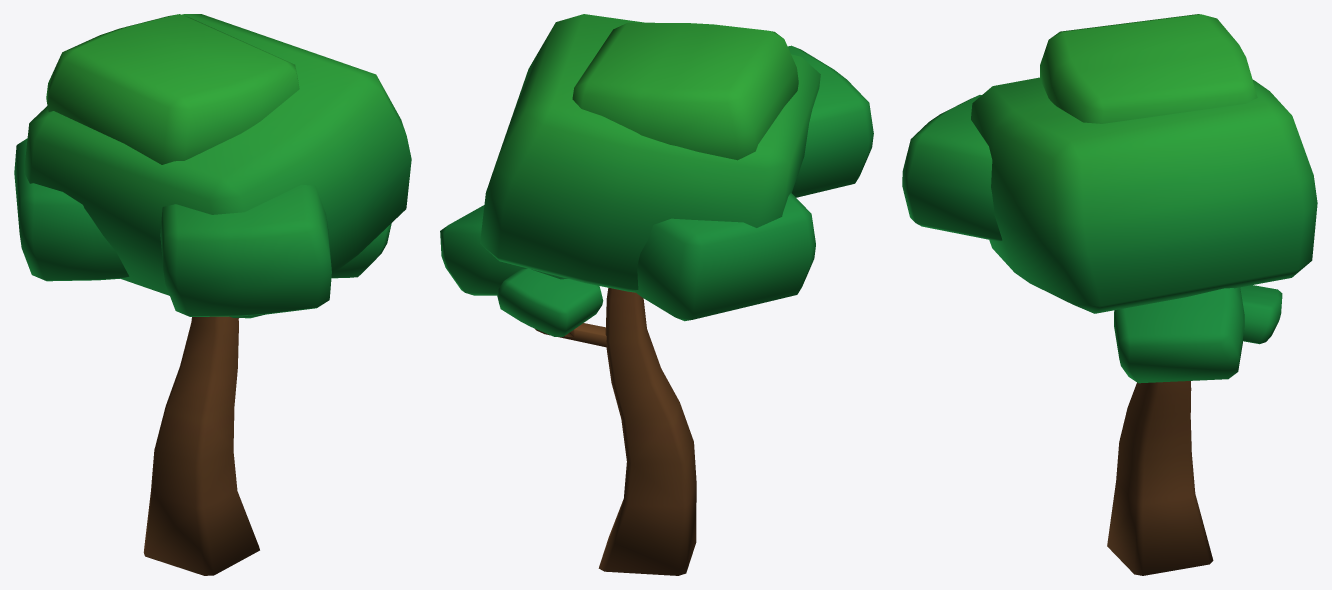
File: Tree_2_1.glb
3 views of the same model, side by side, from view 1: azimuth 30°, elevation 25°; view 2: azimuth 150°, elevation 25°; view 3: azimuth 270°, elevation 25° (orthographic). The views are drawn at different scales.
Parts seen in each view (by area): view 1: Tree_2_1; view 2: Tree_2_1; view 3: Tree_2_1.
Boxes of the visible parts, <box> form: Tree_2_1: <box>14,14,411,575</box>; Tree_2_1: <box>440,14,873,575</box>; Tree_2_1: <box>902,14,1317,575</box>.
Bounding box in the file's own units: 2.43 × 3.37 × 2.59.
Materials: 1 (1 with a texture image).
